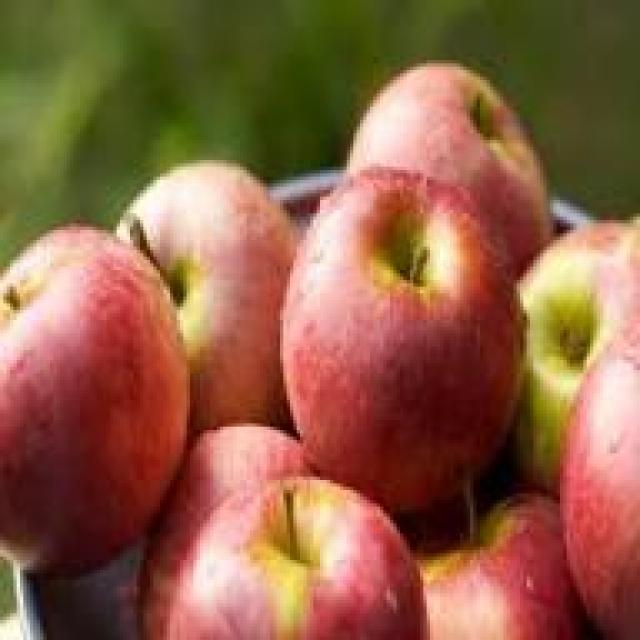apple: (297, 144, 510, 494), (3, 224, 184, 564), (123, 157, 300, 443), (346, 57, 556, 273), (166, 473, 436, 640), (503, 210, 637, 477), (416, 460, 566, 637), (563, 317, 640, 603)
